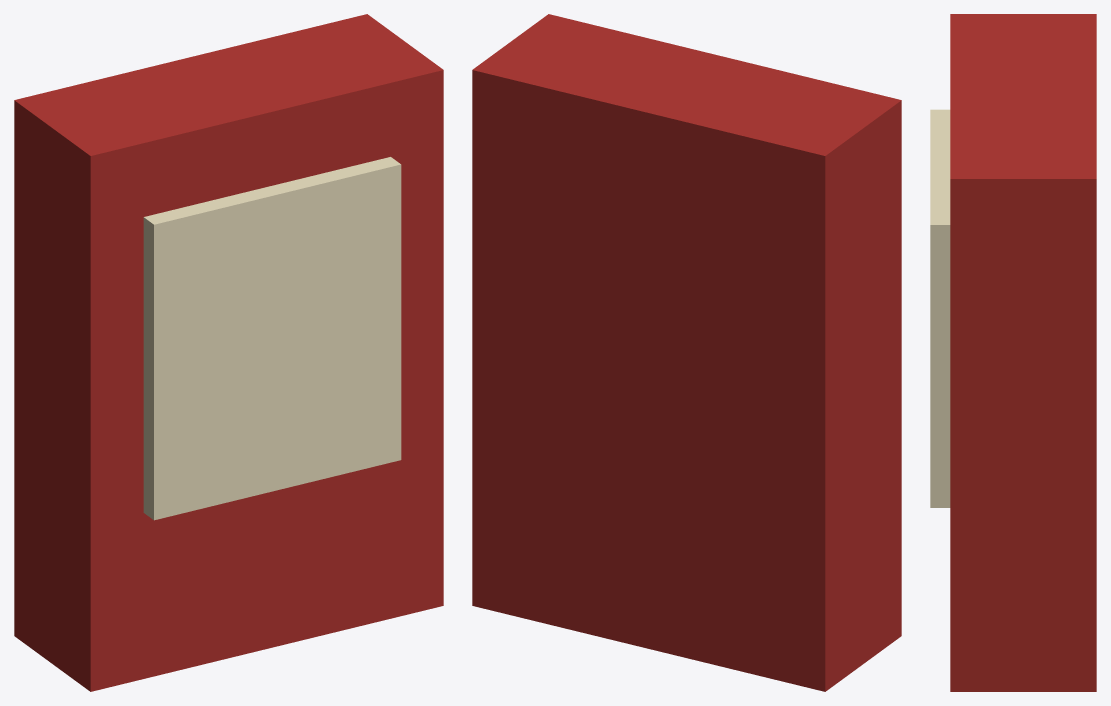
The model's file is aed_case.glb.
3 views of the same model, side by side, from view 1: azimuth 30°, elevation 25°; view 2: azimuth 150°, elevation 25°; view 3: azimuth 270°, elevation 25° (orthographic). The views are drawn at different scales.
Parts seen in each view (by area): view 1: aed_case; view 2: aed_case; view 3: aed_case.
Part boxes in pixels (<box>): aed_case: <box>14,14,443,691</box>; aed_case: <box>472,14,901,691</box>; aed_case: <box>930,14,1096,691</box>.
Bounding box in the file's own units: 0.4 × 0.58 × 0.1705.
